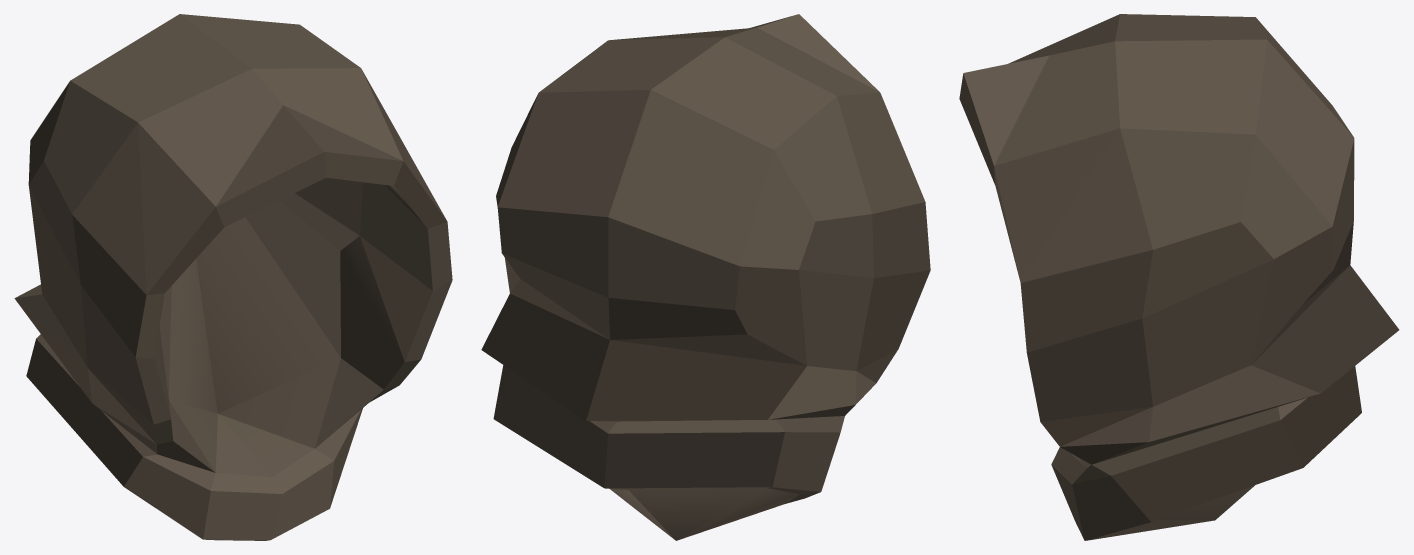
The model's file is Chr_HeadCoverings_No_Hair_06_Static.fbx.
3 views of the same model, side by side, from view 1: azimuth 30°, elevation 25°; view 2: azimuth 150°, elevation 25°; view 3: azimuth 270°, elevation 25° (orthographic). The views are drawn at different scales.
Parts seen in each view (by area): view 1: Chr_HeadCoverings_No_Hair_06_Static; view 2: Chr_HeadCoverings_No_Hair_06_Static; view 3: Chr_HeadCoverings_No_Hair_06_Static.
Boxes of the visible parts, x1,y1,x2,y2 form: Chr_HeadCoverings_No_Hair_06_Static: [14, 14, 452, 540]; Chr_HeadCoverings_No_Hair_06_Static: [481, 14, 930, 540]; Chr_HeadCoverings_No_Hair_06_Static: [959, 14, 1399, 540].
Size of the model in its own units: 0.3143 by 0.431 by 0.3528.
